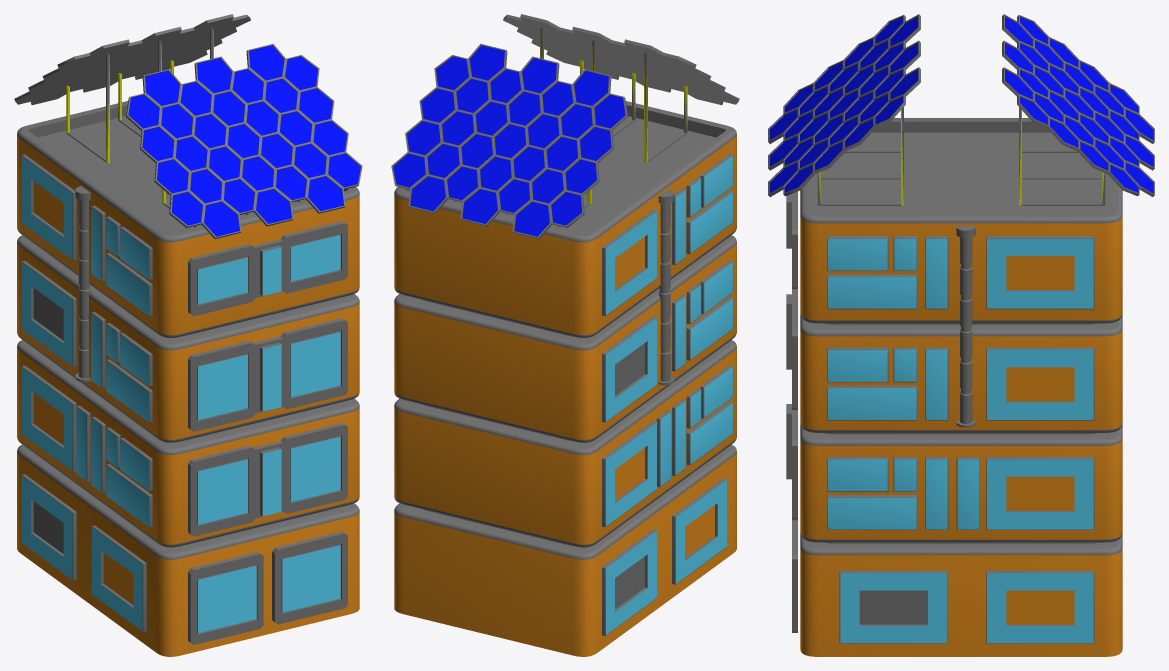
The model's file is Building_1.fbx.
3 renders of one model, left to right at view 1: azimuth 30°, elevation 25°; view 2: azimuth 150°, elevation 25°; view 3: azimuth 270°, elevation 25°, orthographic. The views are drawn at different scales.
Parts seen in each view (by area): view 1: Box012; view 2: Box012; view 3: Box012.
Boxes of the visible parts, bbox=[...] form: Box012: bbox=[14, 14, 362, 656]; Box012: bbox=[391, 14, 739, 656]; Box012: bbox=[768, 14, 1154, 656].
Bounding box in the file's own units: 822 × 1912 × 1200.
